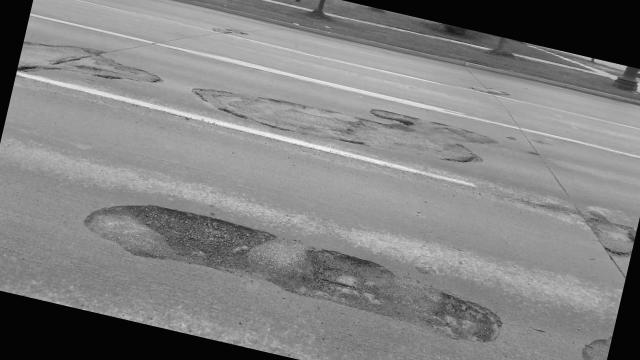Pothole: (71, 178, 510, 347), (182, 66, 494, 180), (16, 26, 176, 108)
